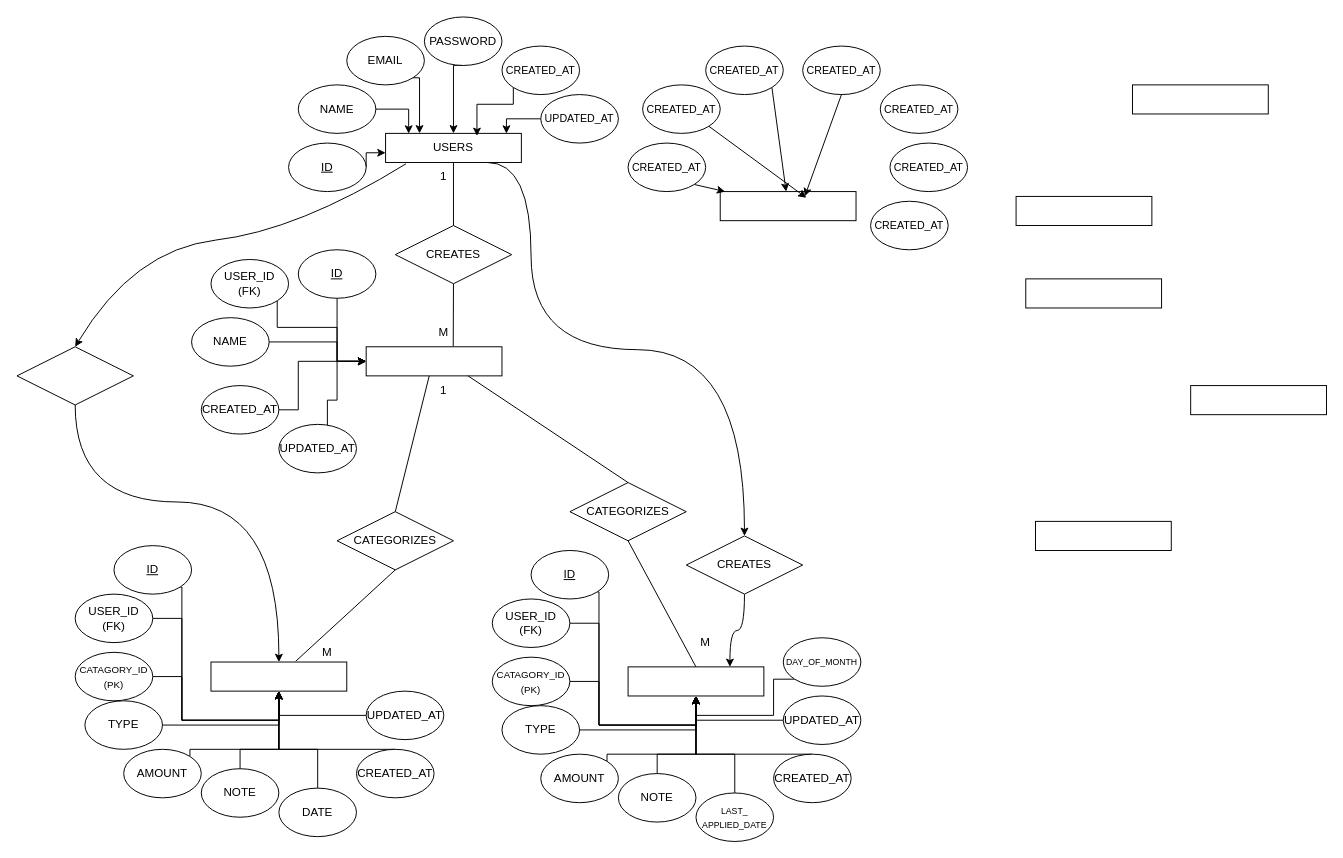
This 1343x858 diagram has some shape labels left out. Here are the shapes that lost their labels. From the top down, the box of each, then its label:
(719, 191, 856, 221): SAVINGS
(16, 346, 133, 405): RECORDS
(365, 346, 502, 376): CATEGORIES
(210, 661, 347, 691): TRANSACTIONS
(627, 666, 764, 696): RECURRING_ TRANSACTIONS
